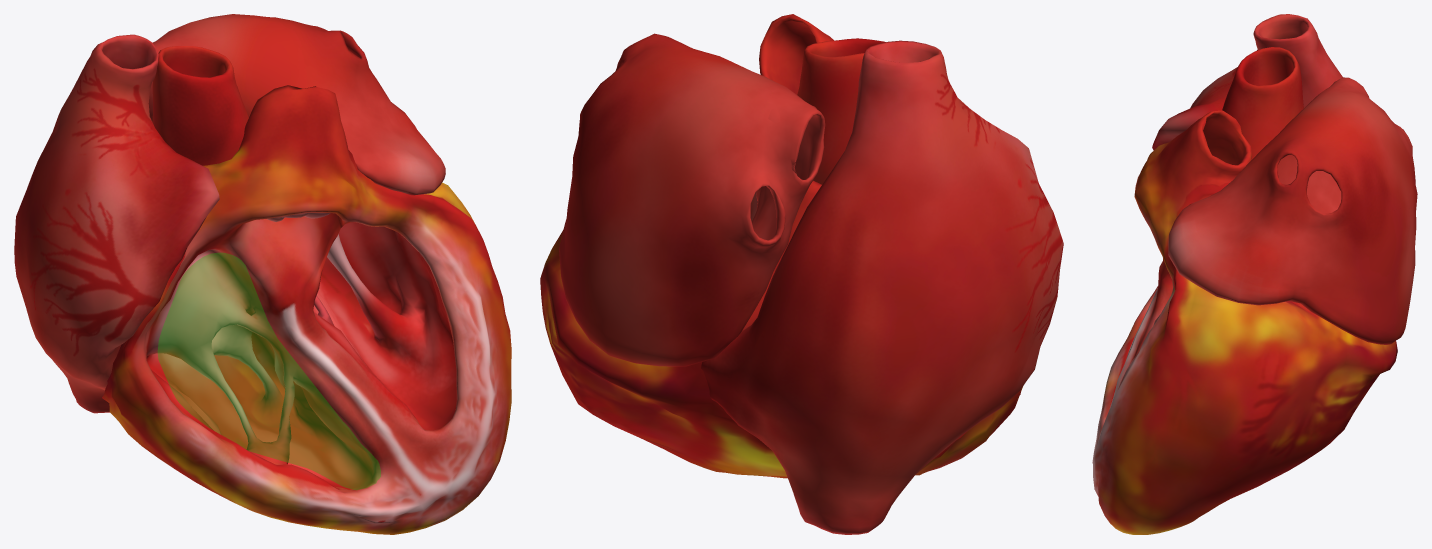
The model's file is heartbeat10.fbx.
3 views of the same model, side by side, from view 1: azimuth 30°, elevation 25°; view 2: azimuth 150°, elevation 25°; view 3: azimuth 270°, elevation 25° (orthographic). The views are drawn at different scales.
Visible parts, largest first — view 1: Heart_New, greenHighlight_nurbToPoly; view 2: Heart_New; view 3: Heart_New.
Boxes of the visible parts, bbox=[...] form: Heart_New: bbox=[14, 14, 511, 534]; greenHighlight_nurbToPoly: bbox=[158, 253, 380, 489]; Heart_New: bbox=[540, 14, 1063, 534]; Heart_New: bbox=[1092, 14, 1417, 534].
Bounding box in the file's own units: 10.93 × 11.51 × 8.21.
4 materials, 3 textured.
